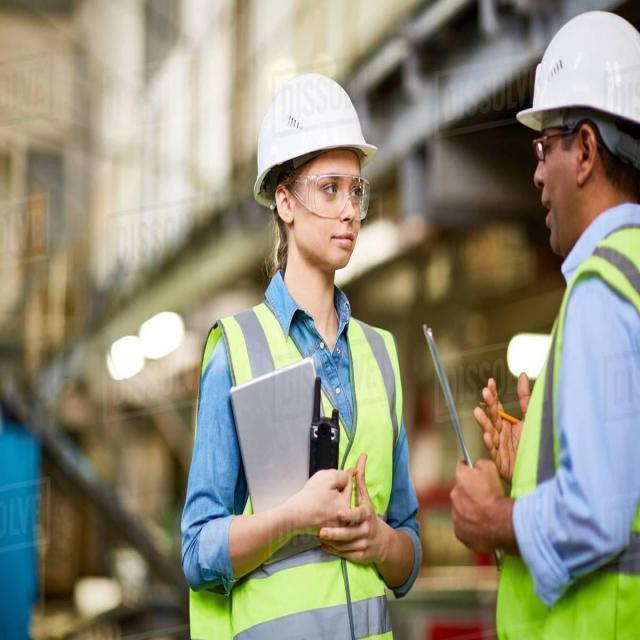helmet: (253, 61, 387, 198), (519, 7, 640, 142)
vest: (188, 301, 404, 640), (494, 224, 640, 640)
